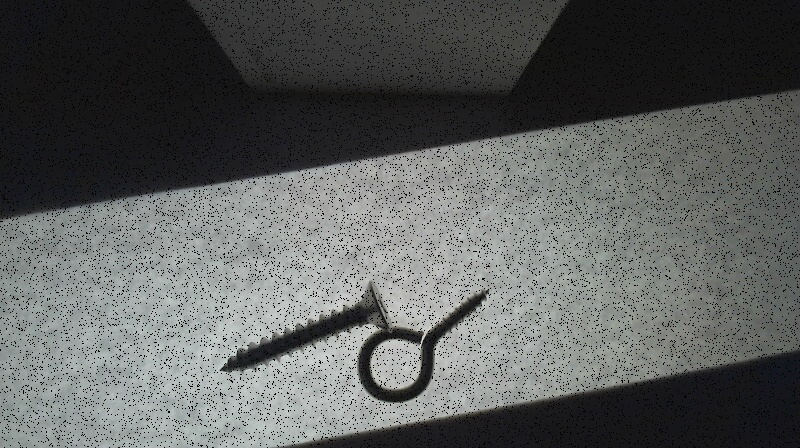O001: (359, 287, 491, 403)
S001: (213, 280, 399, 375)
